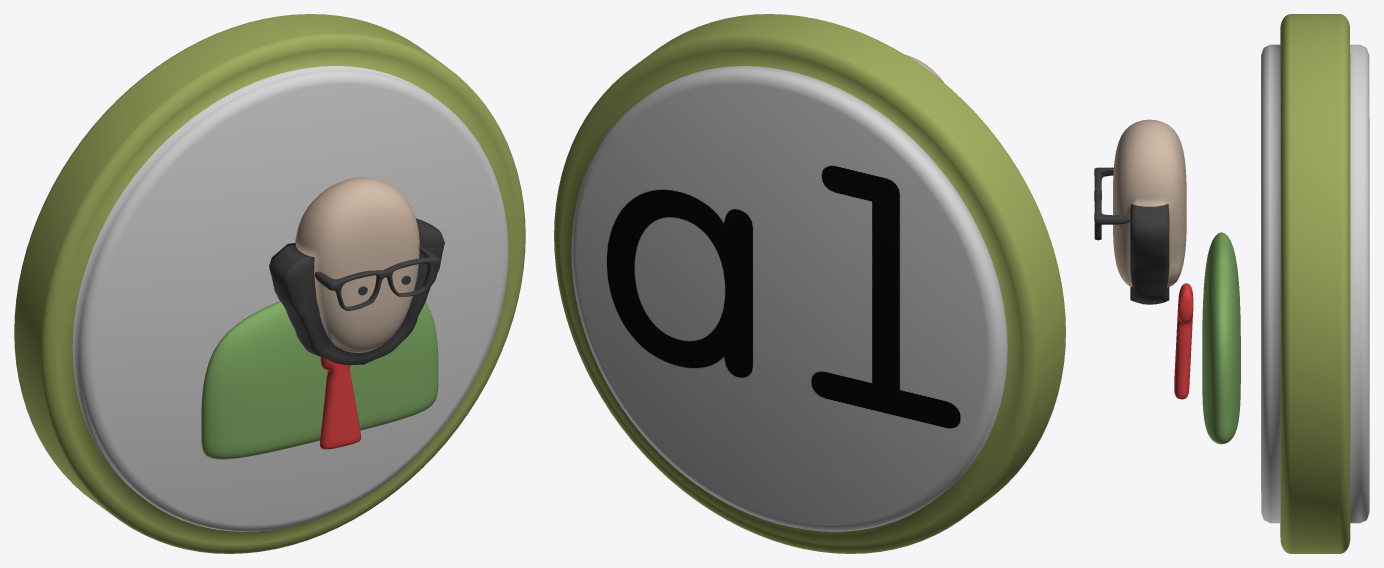
Rendered from bald3.gltf.
3 views of the same model, side by side, from view 1: azimuth 30°, elevation 25°; view 2: azimuth 150°, elevation 25°; view 3: azimuth 270°, elevation 25° (orthographic). The views are drawn at different scales.
Parts seen in each view (by area): view 1: coin, Cube.001, Cube, Cube.003, Cylinder; view 2: coin; view 3: coin, Cube, Cube.001, Cube.003, Cylinder.
Part boxes in pixels (x1=…): coin: x1=14, y1=14, x2=525, y2=553; Cube.001: x1=201, y1=301, x2=438, y2=459; Cube: x1=269, y1=177, x2=444, y2=364; Cube.003: x1=320, y1=357, x2=360, y2=449; Cylinder: x1=315, y1=246, x2=439, y2=310; coin: x1=554, y1=14, x2=1065, y2=553; coin: x1=1261, y1=14, x2=1369, y2=553; Cube: x1=1113, y1=119, x2=1186, y2=304; Cube.001: x1=1202, y1=232, x2=1240, y2=444; Cube.003: x1=1174, y1=283, x2=1193, y2=399; Cylinder: x1=1094, y1=167, x2=1130, y2=240.
Size of what is drawn, in the model's own units: 2.56 by 2.56 by 1.3.
7 materials, 1 textured.
